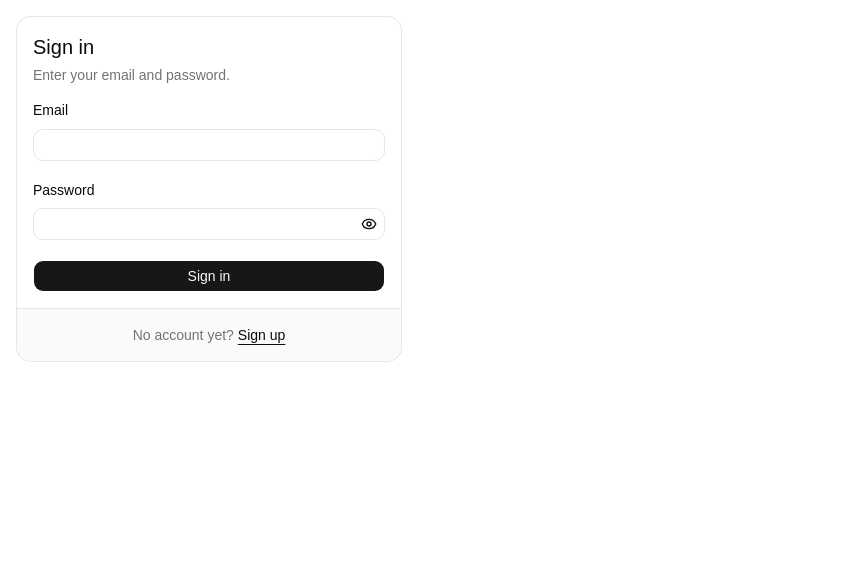
/signin 403 → toast "Request blocked, please reload the page", no alert
Type "ann@example.com" into the field labelled "Email" at (209, 144), box x1=33 y1=128 x2=385 y2=160
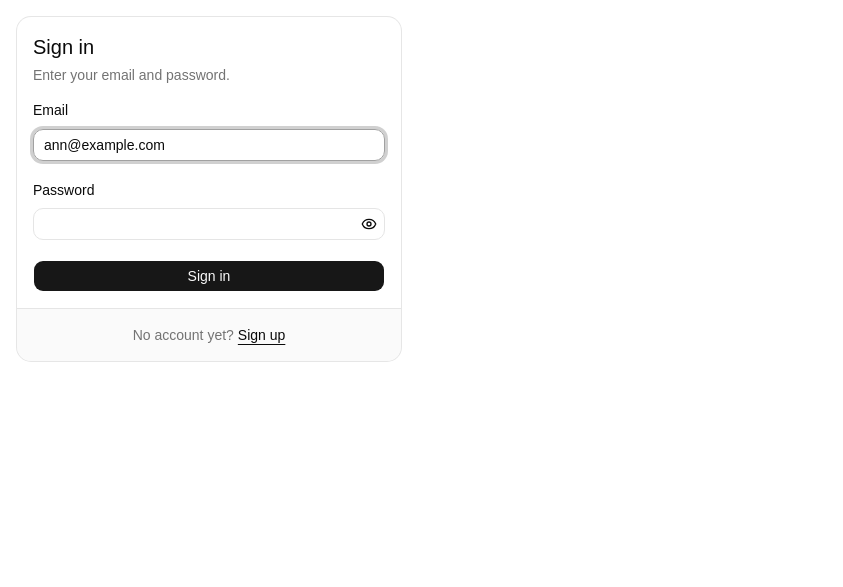
Type "short" into the password field labelled "Password" at (209, 224), box x1=33 y1=208 x2=385 y2=240
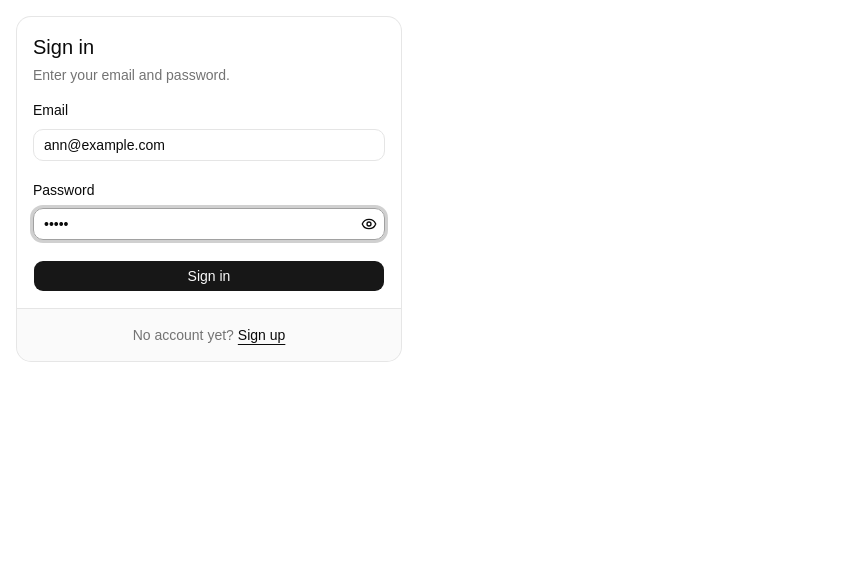
Click the button "Sign in" at (209, 276), box x1=33 y1=260 x2=385 y2=292
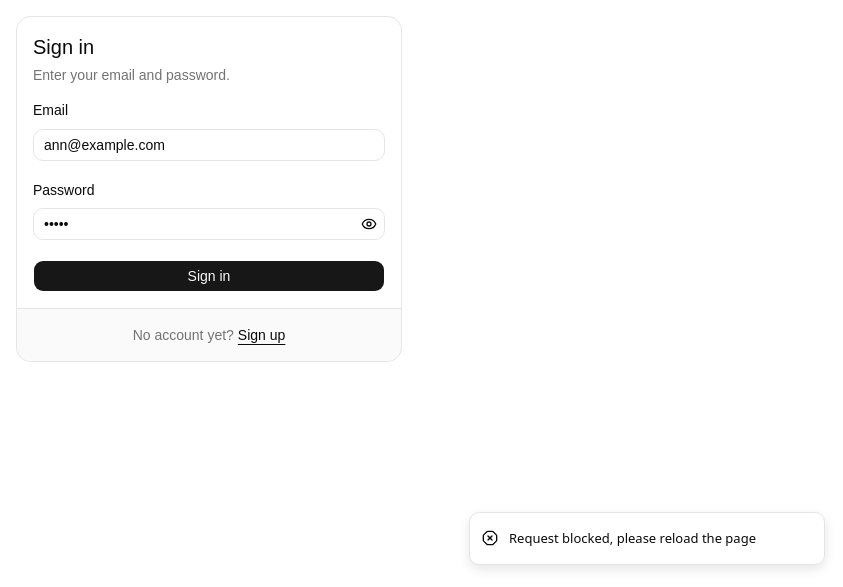
Now the text "Request blocked, please reload the page" is shown, box x1=509 y1=528 x2=756 y2=548
